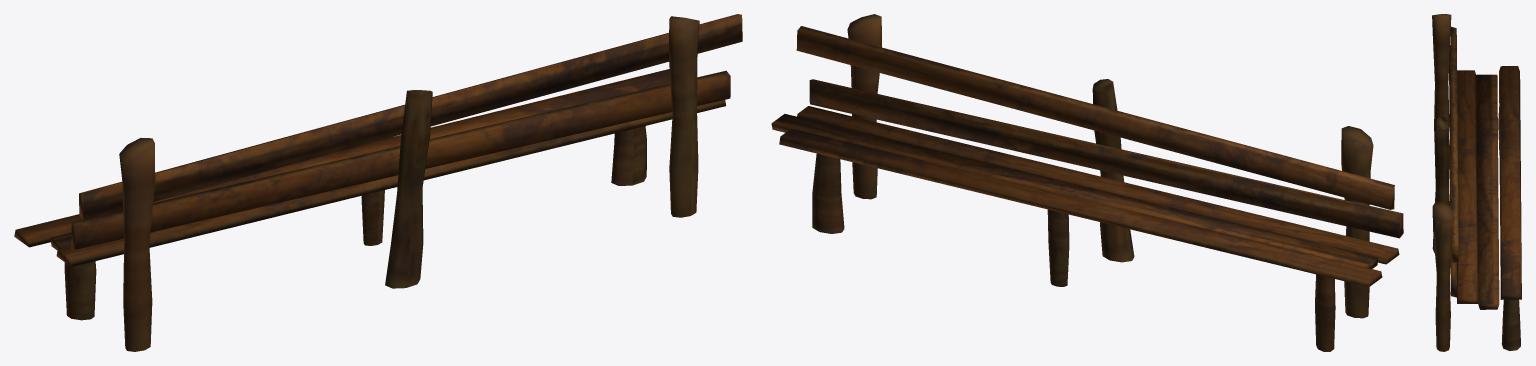
The model's file is SM_WBT_courtChair2_low.fbx.
3 views of the same model, side by side, from view 1: azimuth 30°, elevation 25°; view 2: azimuth 150°, elevation 25°; view 3: azimuth 270°, elevation 25° (orthographic). The views are drawn at different scales.
Parts seen in each view (by area): view 1: SM_WBT_Chair2; view 2: SM_WBT_Chair2; view 3: SM_WBT_Chair2.
Boxes of the visible parts, bbox=[...] form: SM_WBT_Chair2: bbox=[14, 14, 742, 351]; SM_WBT_Chair2: bbox=[771, 14, 1403, 351]; SM_WBT_Chair2: bbox=[1432, 14, 1521, 351].
Size of the model in its own units: 1011 by 162 by 290.
